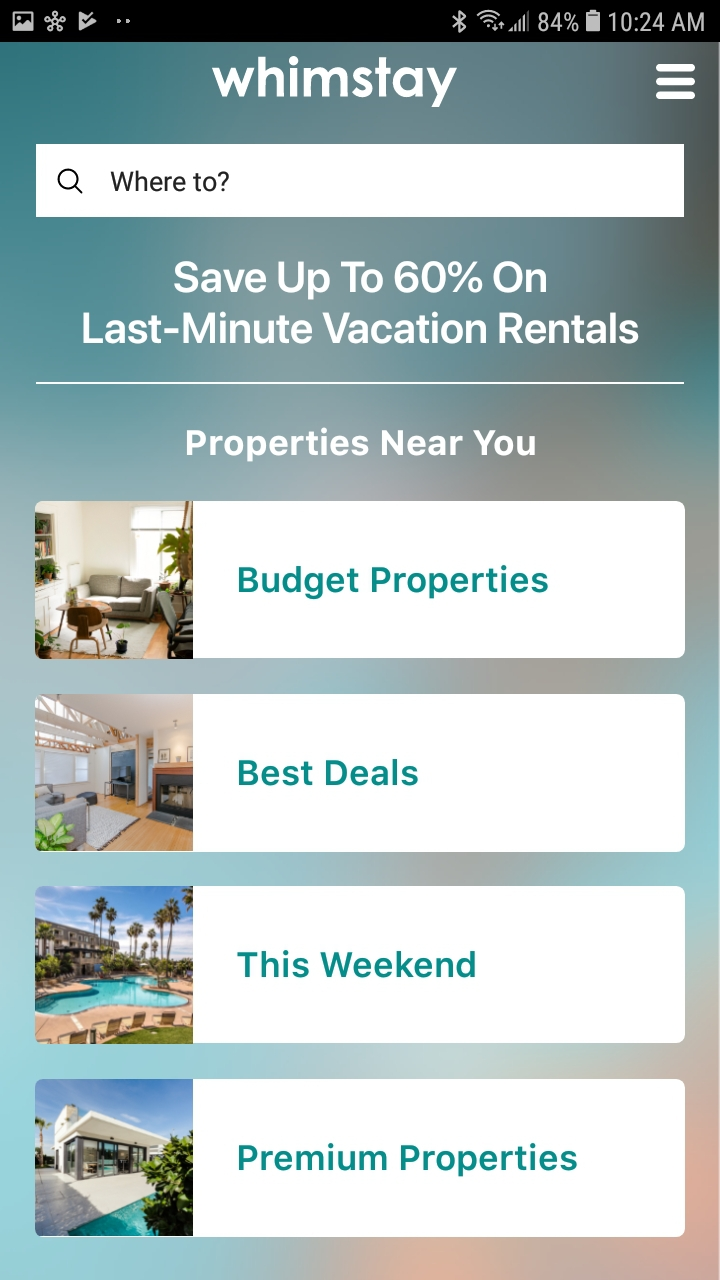EditText: (37, 145, 684, 218)
Icon: (655, 64, 695, 100), (58, 169, 84, 195)
Image: (35, 1079, 194, 1237), (35, 886, 194, 1044), (36, 501, 194, 660), (36, 694, 194, 852)
Text: (83, 260, 639, 345), (212, 56, 458, 109), (187, 427, 537, 463), (239, 1143, 578, 1178), (239, 565, 549, 601), (237, 949, 476, 978), (239, 759, 419, 787), (111, 171, 230, 193)
UpperTaskBar: (1, 1, 720, 43)
